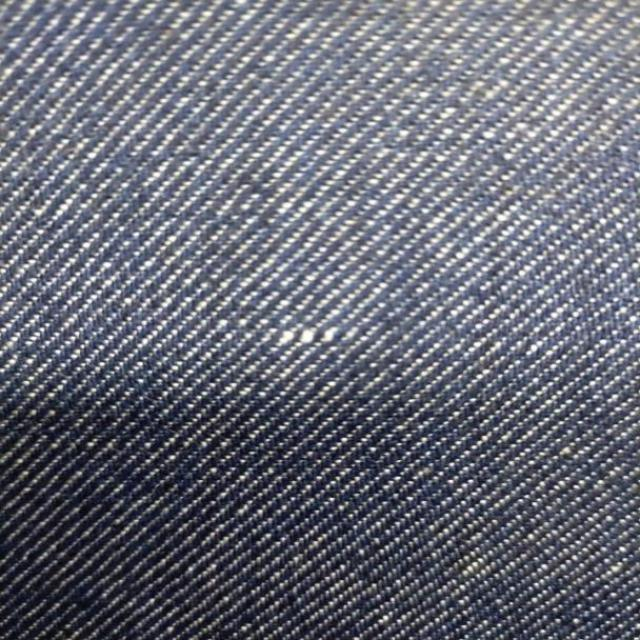Knot: (279, 327, 341, 346)
